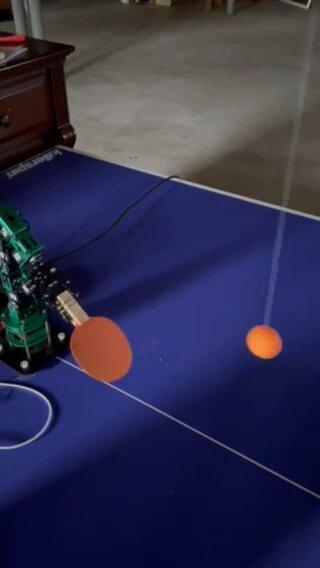oball: (245, 326, 280, 356)
